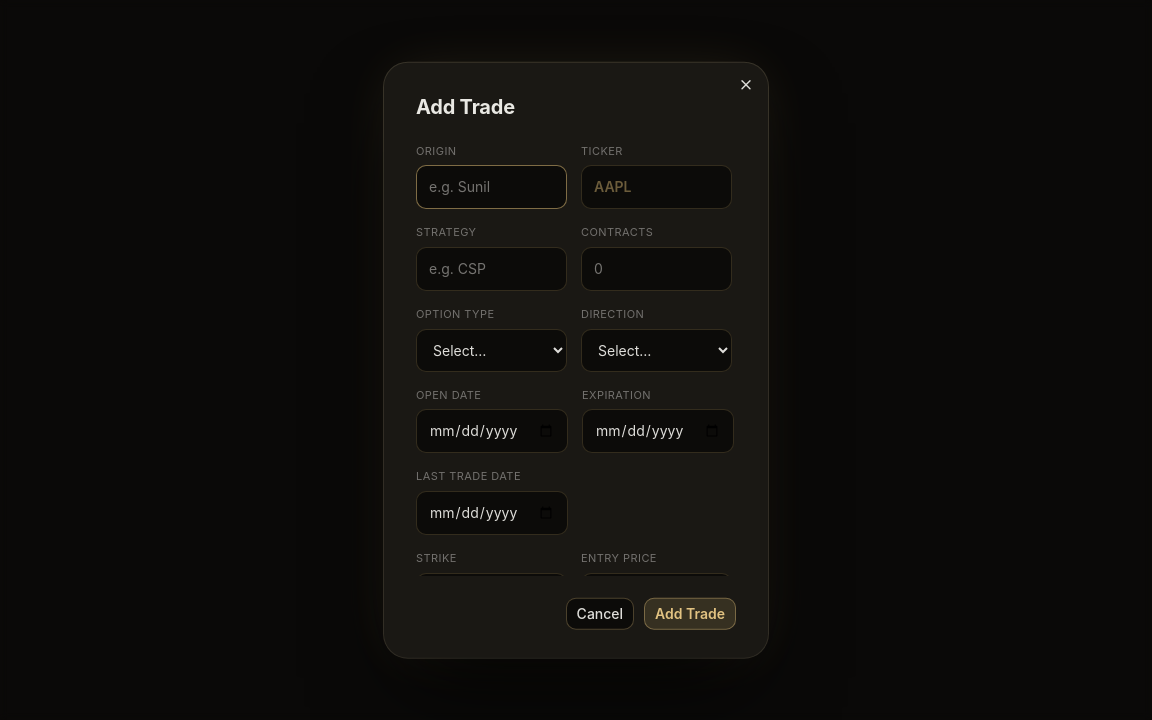
OptionTradeModal › add mode › shows per-field validation errors and does not submit when required fields are blank
Step 1. Click the button "Add Trade" → x=690, y=613, box [644,597,736,629]
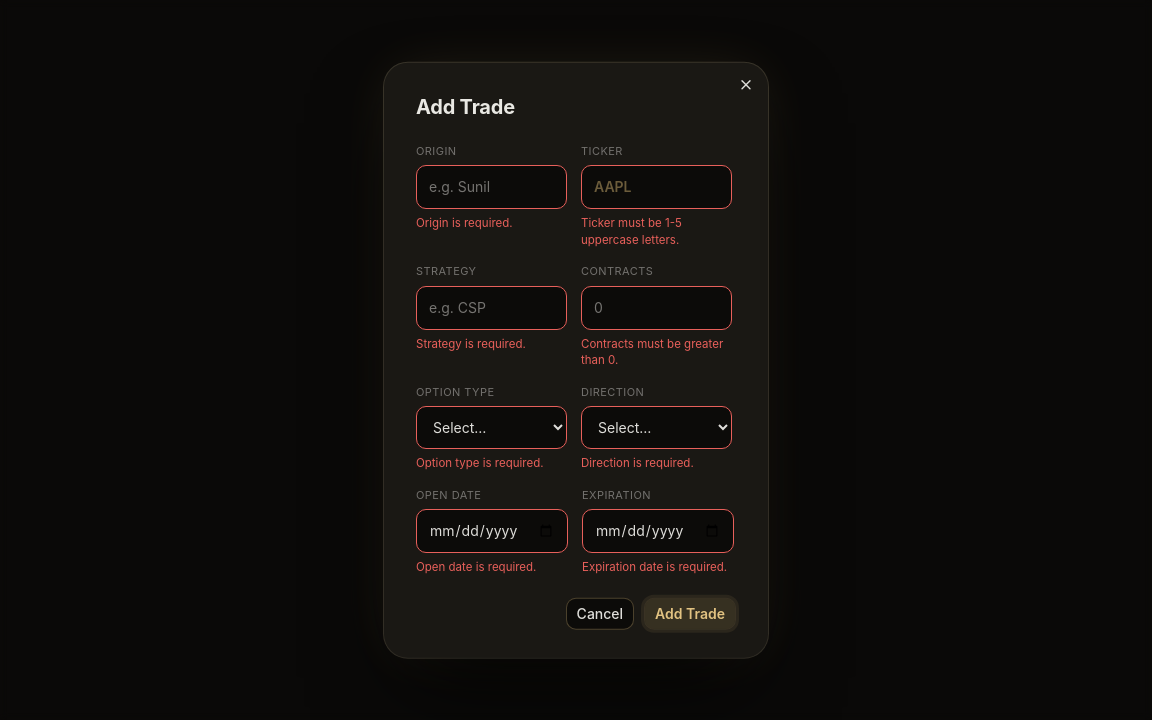
expect the text "Origin is required." is shown: met, box [416,216,513,230]
expect the text "Strategy is required." is shown: met, box [416,336,526,350]
expect the text "Ticker must be 1-5 uppercase letters." is shown: met, box [581,216,682,246]
